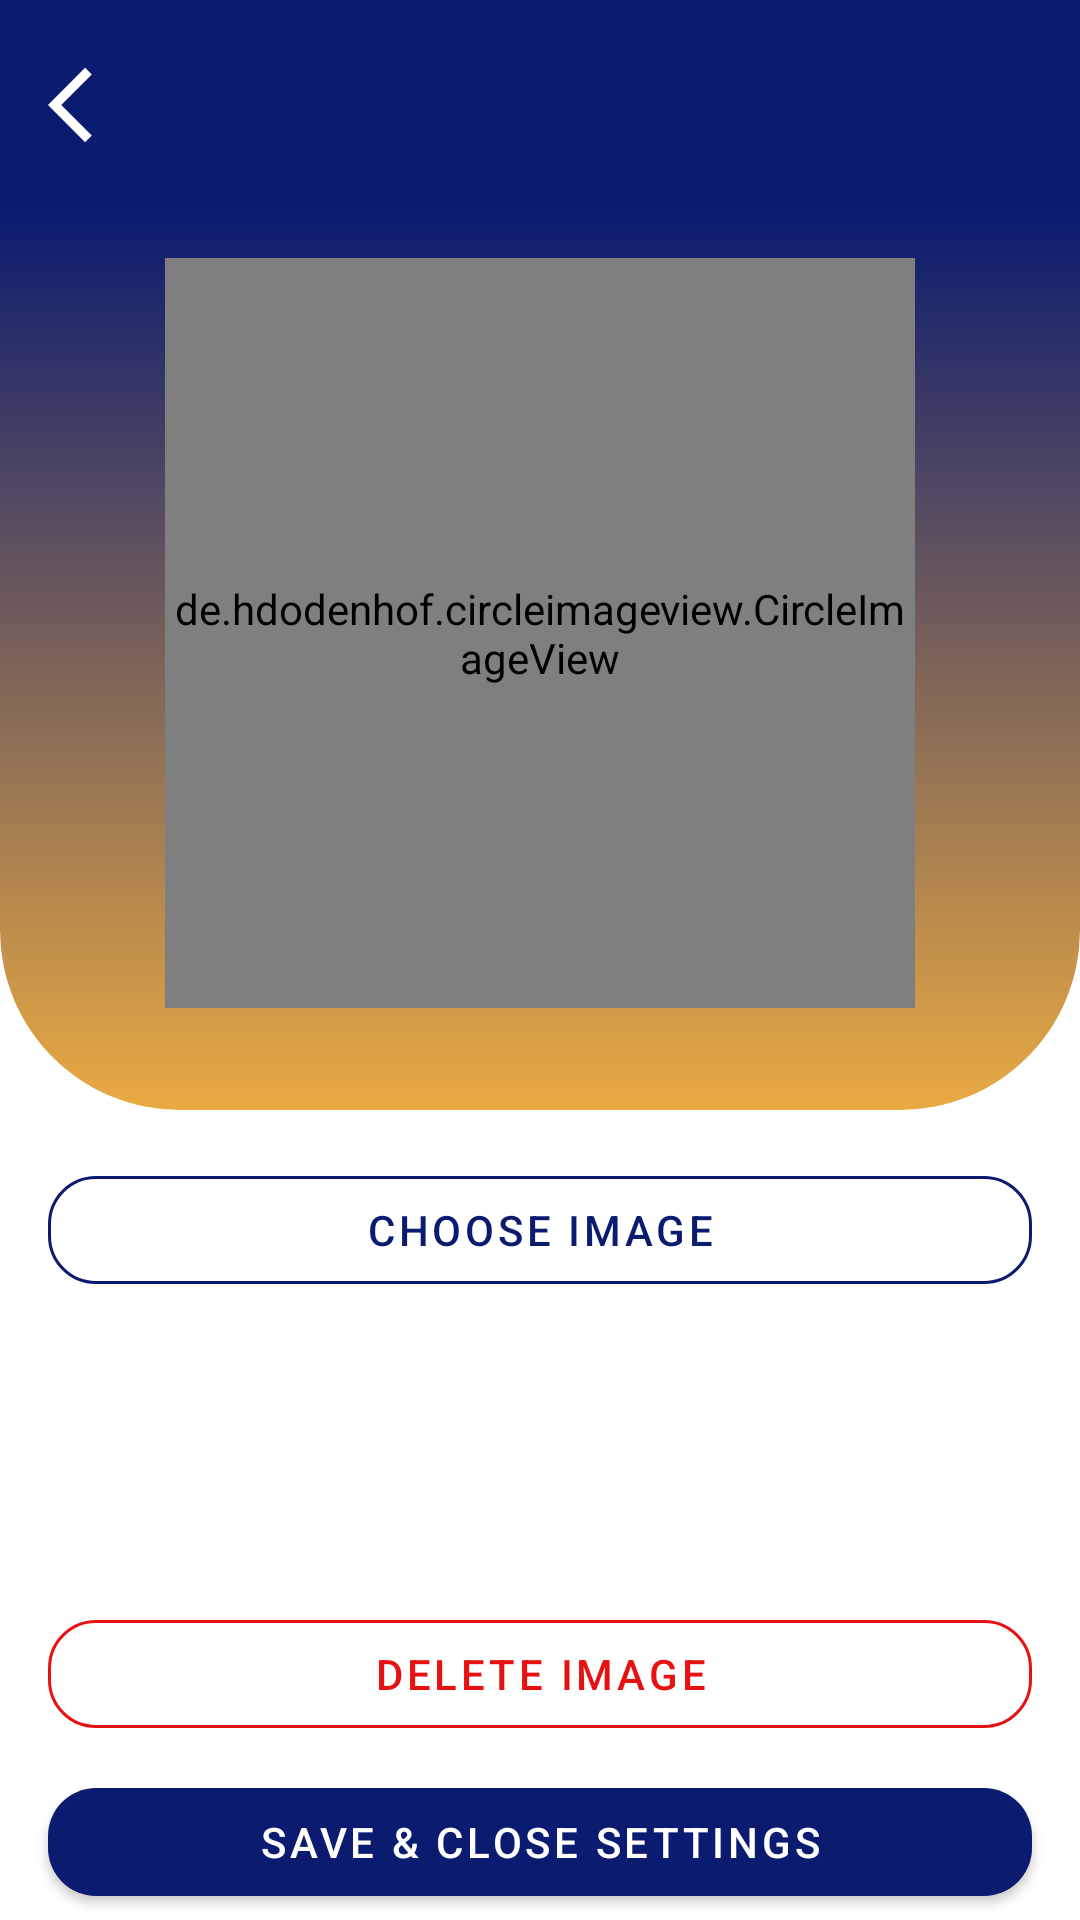

Icons on this 1080*1920 Android screen, each with its box as [x1,y1,x2,y2]:
arrow back: [48,68,92,142]
